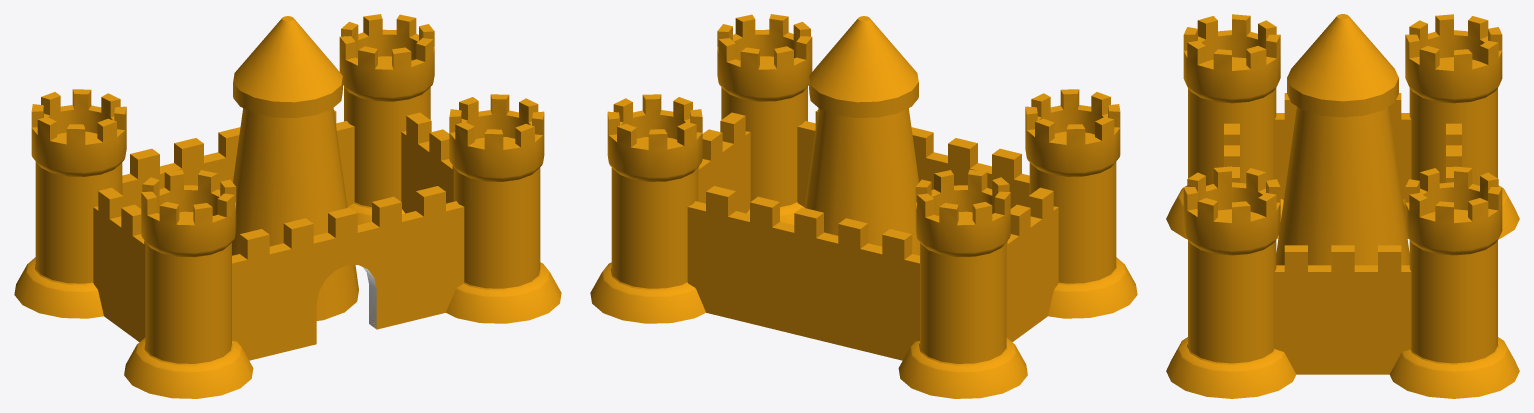
The model's file is SandCastle.fbx.
3 views of the same model, side by side, from view 1: azimuth 30°, elevation 25°; view 2: azimuth 150°, elevation 25°; view 3: azimuth 270°, elevation 25° (orthographic).
Parts seen in each view (by area): view 1: SandCastle; view 2: SandCastle; view 3: SandCastle.
Boxes of the visible parts, x1,y1,x2,y2 form: SandCastle: (14, 14, 561, 398); SandCastle: (590, 14, 1137, 398); SandCastle: (1166, 14, 1519, 398).
Size of the model in its own units: 48.41 by 30.23 by 34.82.
